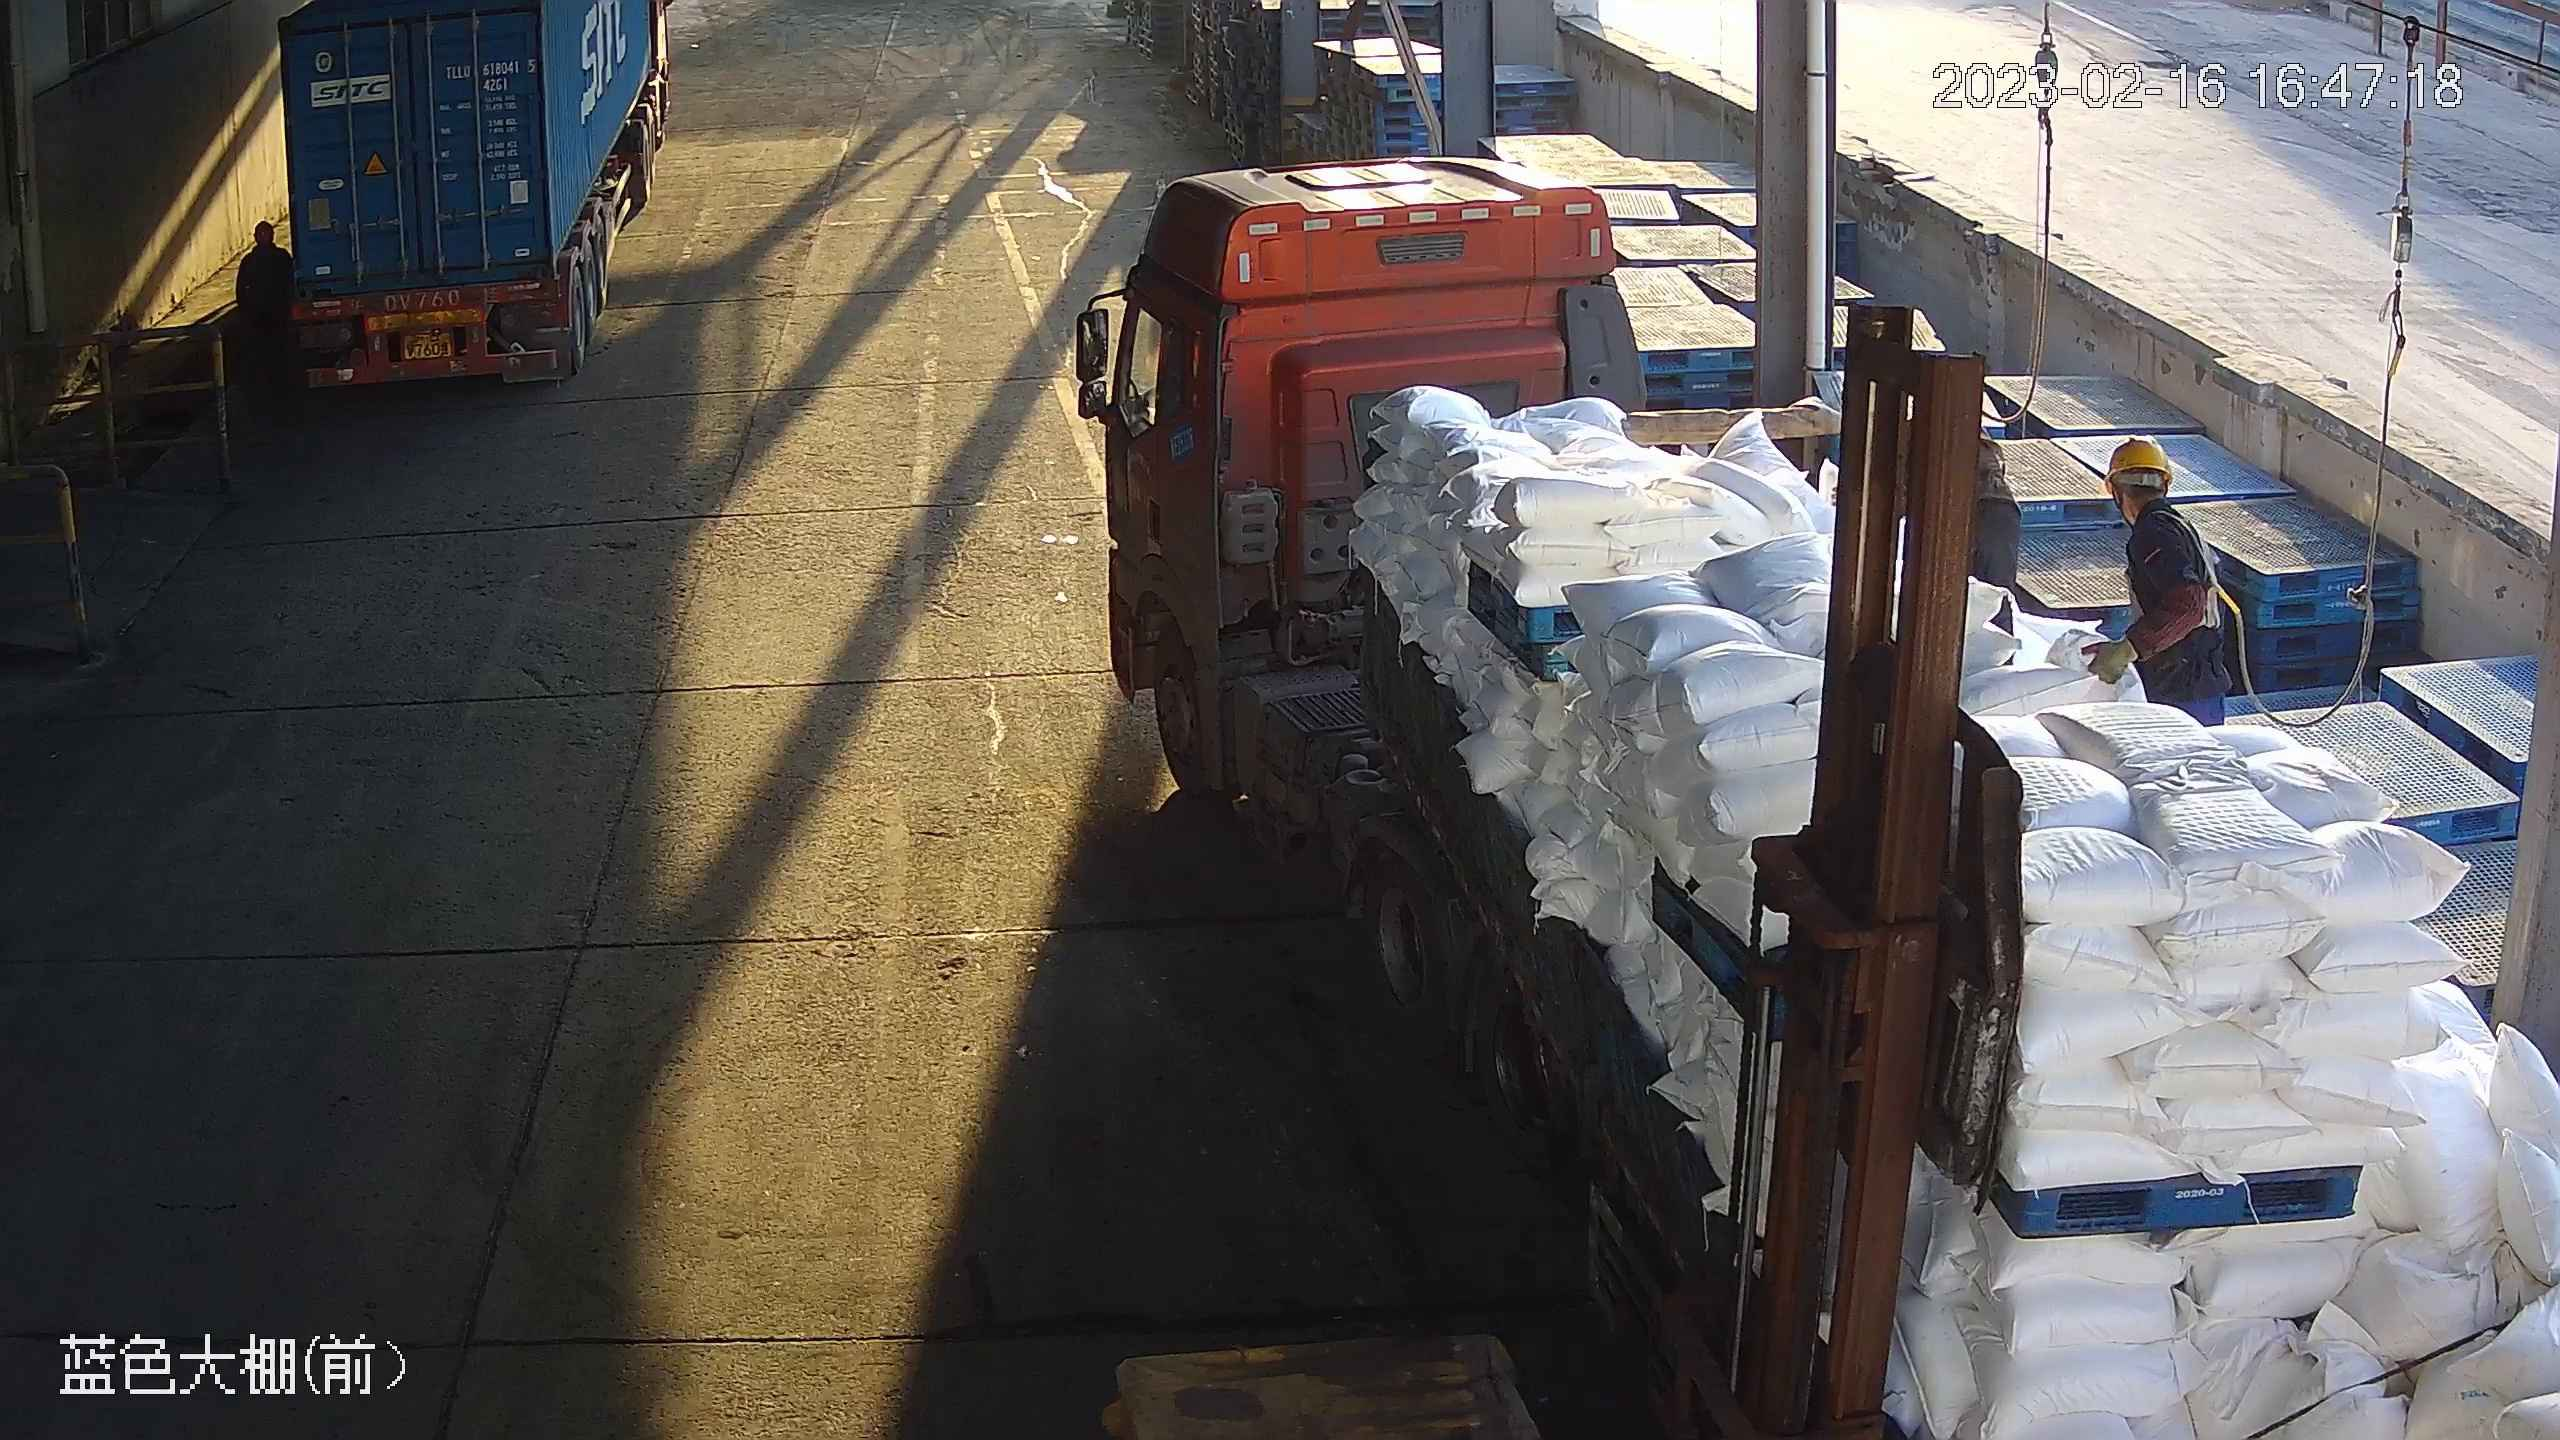belt: (2143, 509, 2247, 631)
head: (2104, 436, 2206, 558)
helmet: (2104, 436, 2174, 494)
people: (2079, 434, 2234, 726)
truck: (1072, 152, 2560, 1440), (276, 1, 672, 393)
